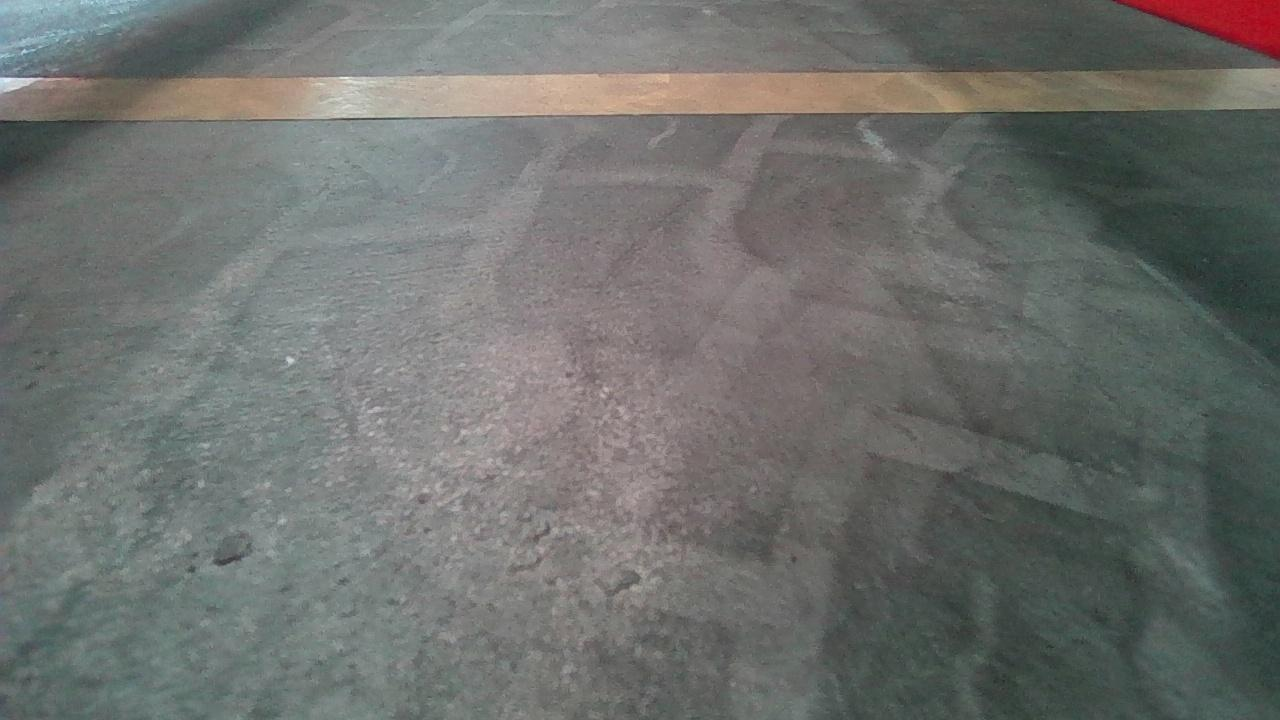yellow_line: (5, 59, 1272, 124)
